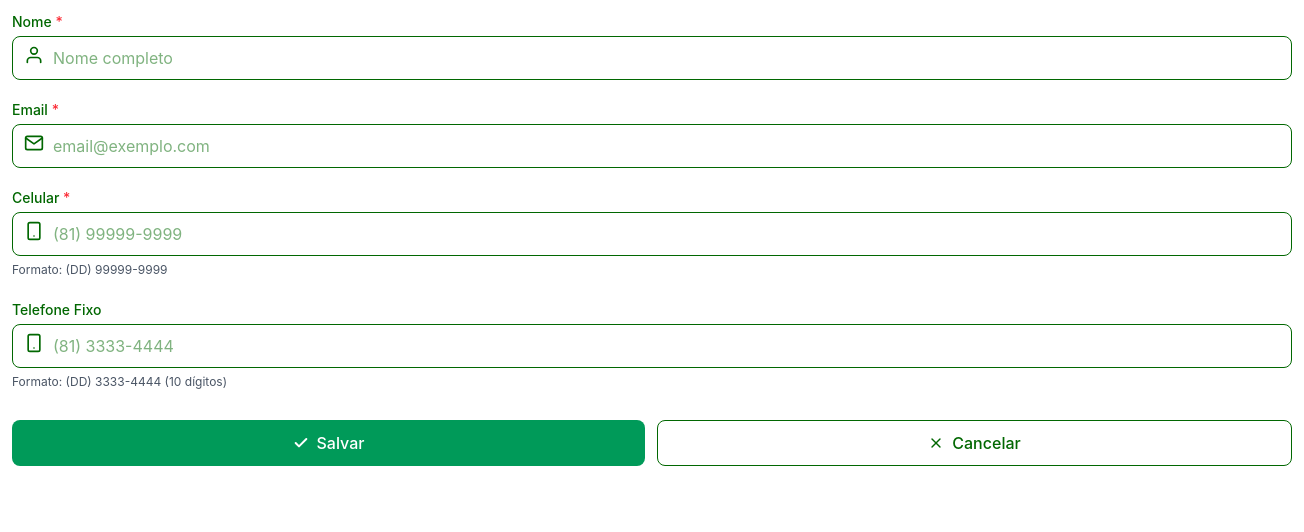
Test case: ContatoForm Component › deve validar formato do celular
The width and height of the screenshot is (1304, 532).
Type "123" into the field with placeholder "(81) 99999-9999". click: (652, 234)
box: [12,212,1292,256]
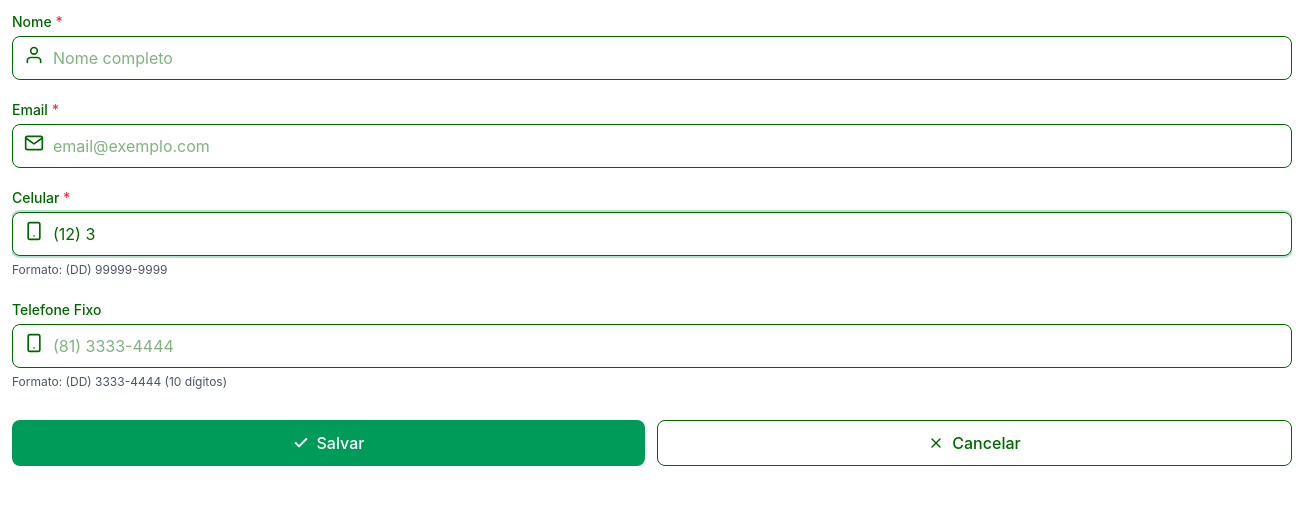
Click the button "Salvar". click: (328, 443)
box: [12,420,645,466]
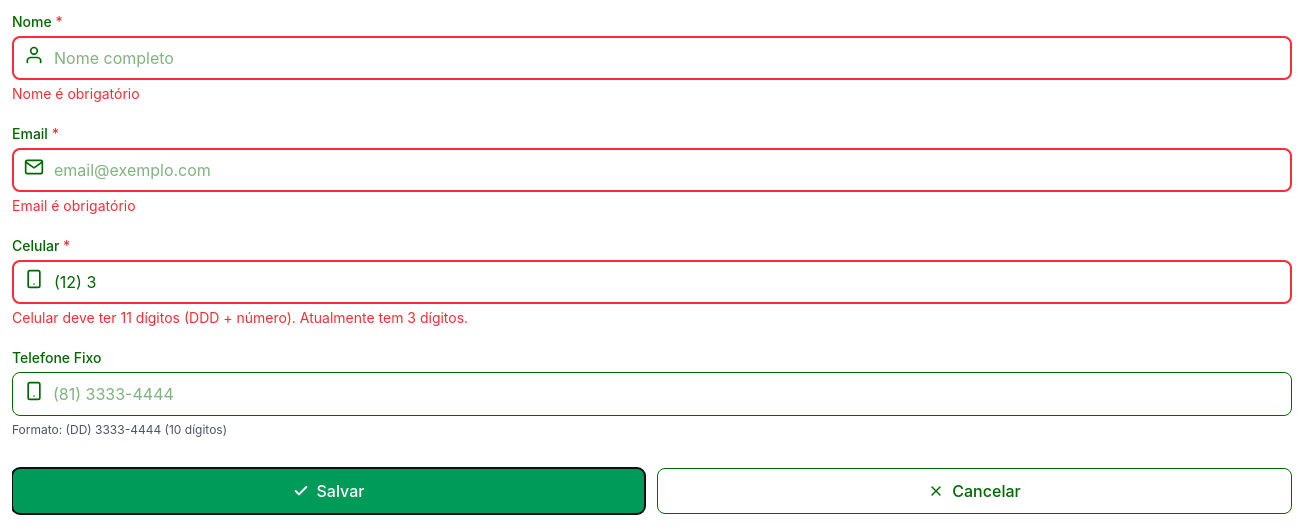
Check: the text "Celular deve ter 11 dígitos" is shown, box [12,309,468,326]
